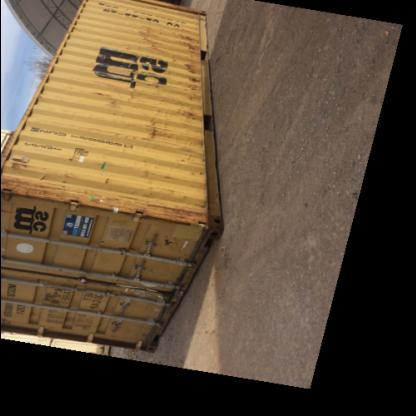Damage: (0, 178, 202, 231), (173, 30, 200, 120), (174, 132, 204, 169), (128, 22, 158, 52), (35, 287, 65, 316), (152, 236, 195, 256), (80, 88, 118, 108), (141, 113, 158, 145), (60, 156, 80, 166)
